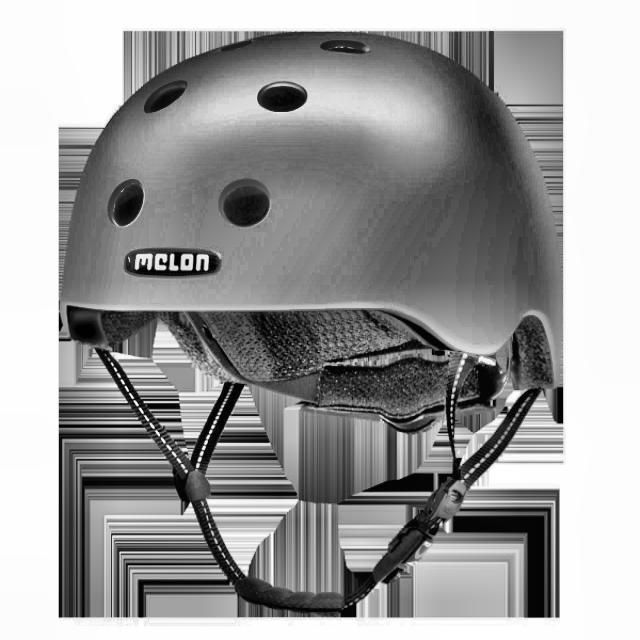Helmet: (36, 30, 614, 630)
